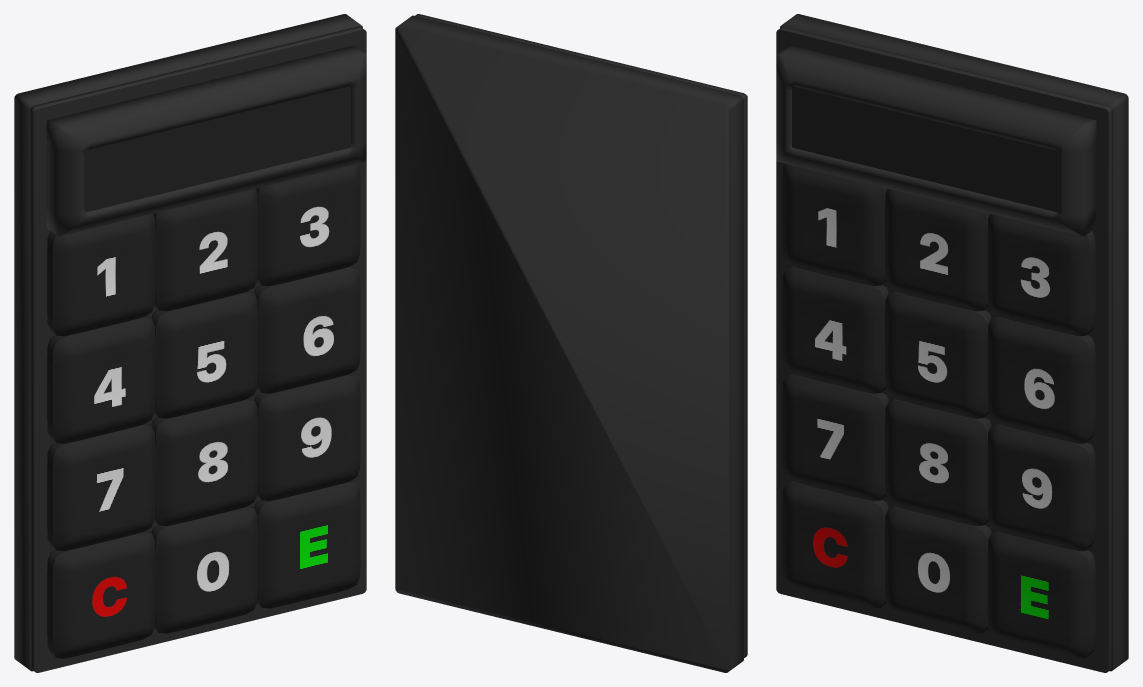
The model's file is Keypad.fbx.
3 views of the same model, side by side, from view 1: azimuth 30°, elevation 25°; view 2: azimuth 150°, elevation 25°; view 3: azimuth 330°, elevation 25° (orthographic).
Parts seen in each view (by area): view 1: Housing-convcol, ScreenEdge, Screen, C-convcol, 4-convcol, 7-convcol, 9-convcol, 6-convcol, E-convcol, 5-convcol, 8-convcol, 0-convcol (+3 smaller); view 2: Housing-convcol; view 3: Housing-convcol, ScreenEdge, Screen, E-convcol, 6-convcol, 9-convcol, 7-convcol, 4-convcol, C-convcol, 5-convcol, 8-convcol, 0-convcol (+3 smaller).
Boxes of the visible parts, x1=… form: Housing-convcol: x1=14, y1=14, x2=366, y2=672; ScreenEdge: x1=46, y1=45, x2=366, y2=236; Screen: x1=85, y1=86, x2=350, y2=212; C-convcol: x1=47, y1=530, x2=155, y2=658; 4-convcol: x1=47, y1=315, x2=155, y2=443; 7-convcol: x1=47, y1=423, x2=155, y2=551; 9-convcol: x1=254, y1=372, x2=360, y2=501; 6-convcol: x1=254, y1=265, x2=360, y2=393; E-convcol: x1=254, y1=480, x2=360, y2=608; 5-convcol: x1=151, y1=290, x2=257, y2=418; 8-convcol: x1=151, y1=397, x2=257, y2=526; 0-convcol: x1=151, y1=505, x2=257, y2=633; Housing-convcol: x1=395, y1=14, x2=747, y2=672; Housing-convcol: x1=776, y1=14, x2=1128, y2=672; ScreenEdge: x1=776, y1=45, x2=1096, y2=236; Screen: x1=792, y1=86, x2=1057, y2=212; E-convcol: x1=987, y1=530, x2=1095, y2=658; 6-convcol: x1=987, y1=315, x2=1095, y2=443; 9-convcol: x1=987, y1=423, x2=1095, y2=551; 7-convcol: x1=782, y1=372, x2=888, y2=501; 4-convcol: x1=782, y1=265, x2=888, y2=393; C-convcol: x1=782, y1=480, x2=888, y2=608; 5-convcol: x1=885, y1=290, x2=991, y2=418; 8-convcol: x1=885, y1=397, x2=991, y2=526; 0-convcol: x1=885, y1=505, x2=991, y2=633.
Size of the model in its own units: 32.53 by 52.76 by 6.4.
3 materials, 2 textured.
